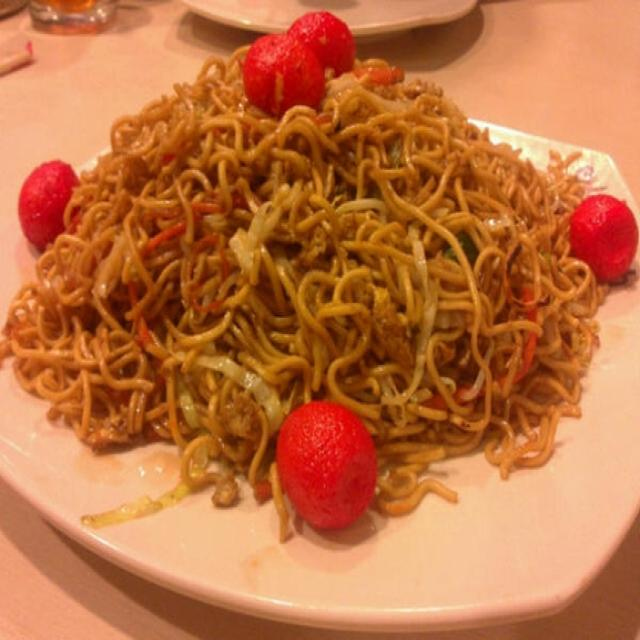面条主食: (30, 31, 596, 551)
